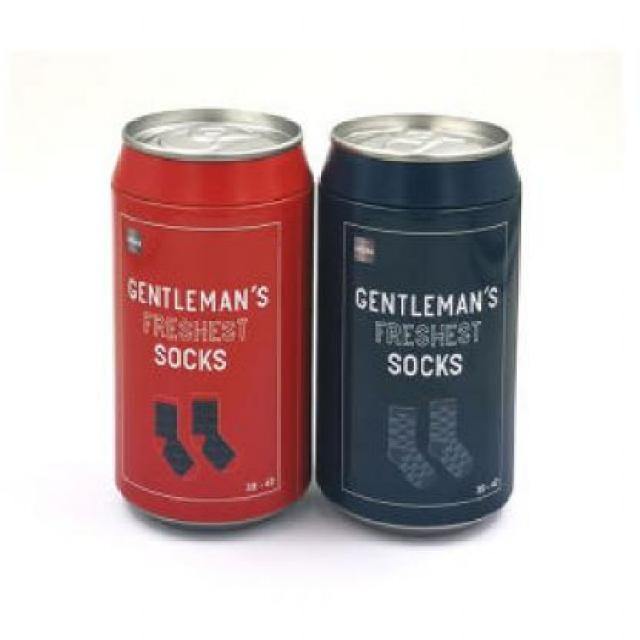non-organic waste: (316, 95, 530, 543), (103, 95, 314, 540)
